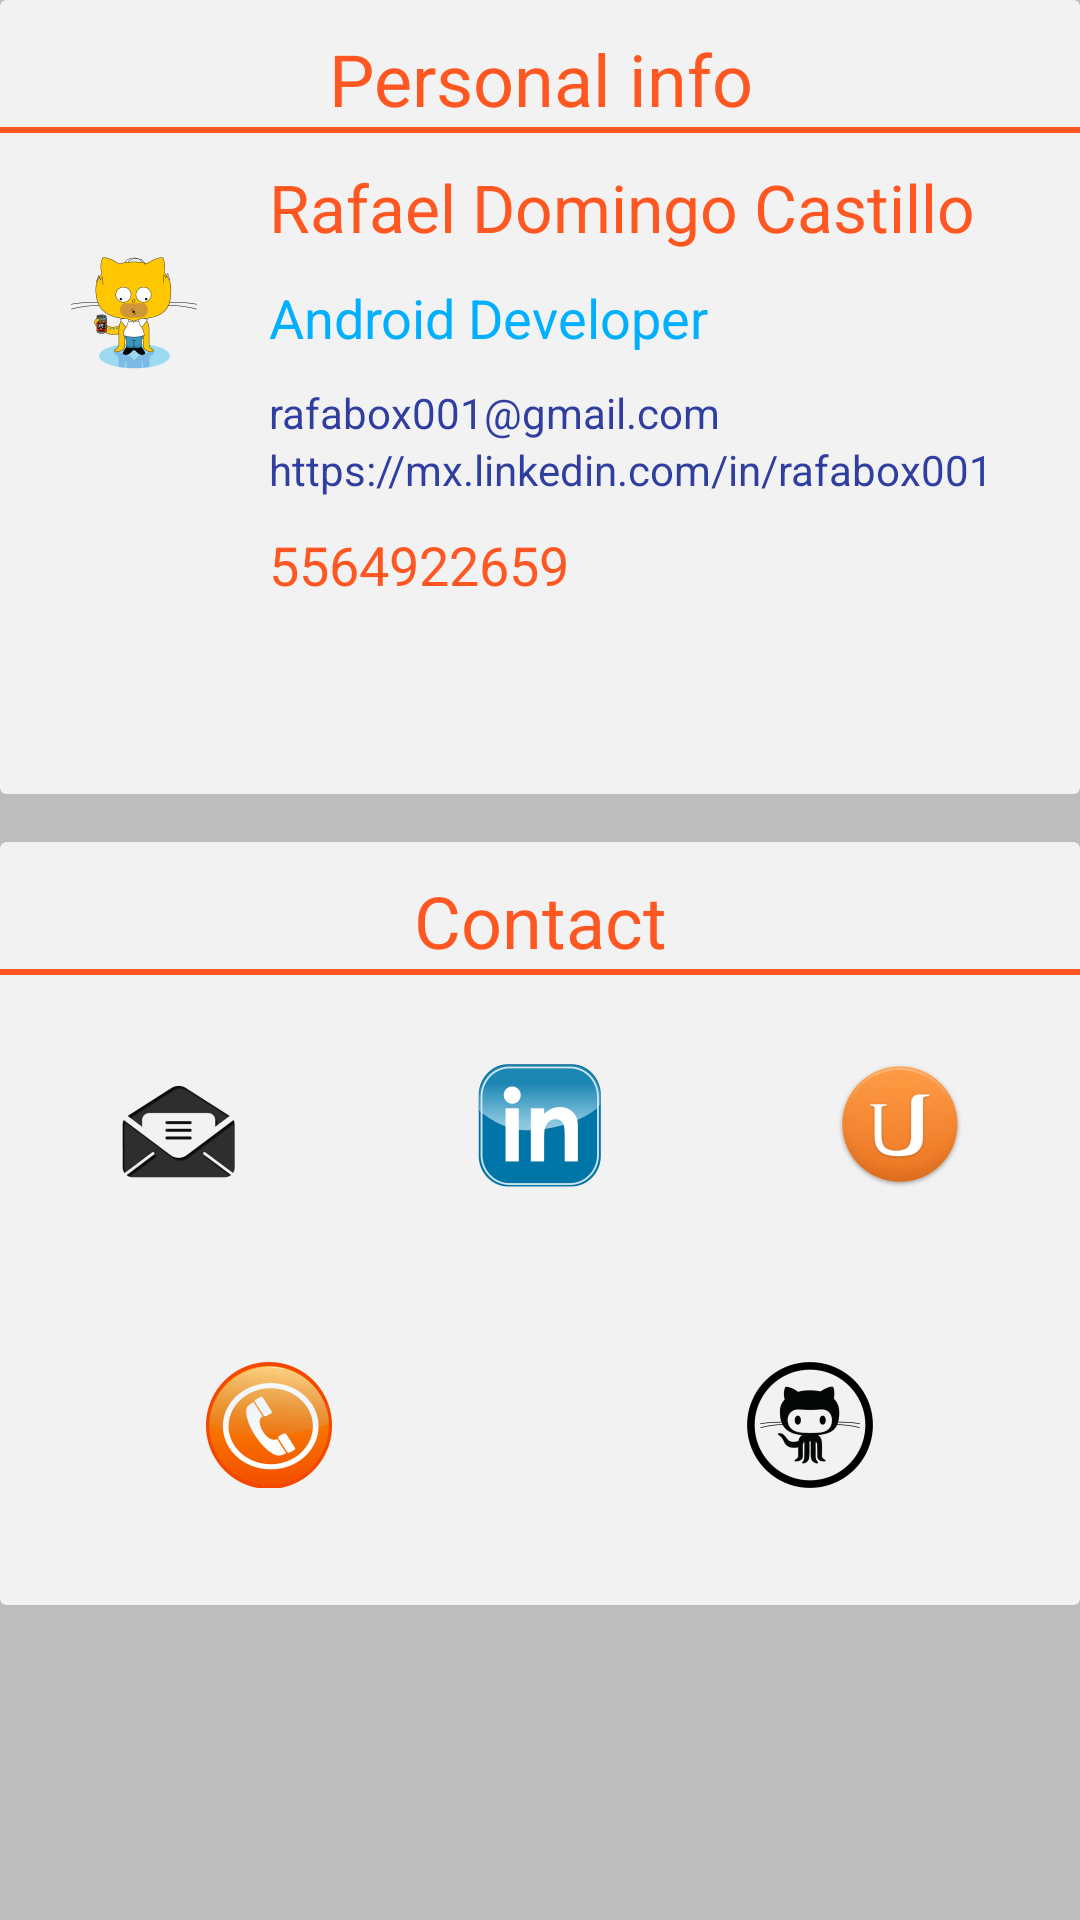

Icons on this 1080px×1920px Android screen, each with its box as (x1, y1, x2, y2):
mail: (122, 1086, 235, 1178)
phone: (206, 1362, 332, 1488)
